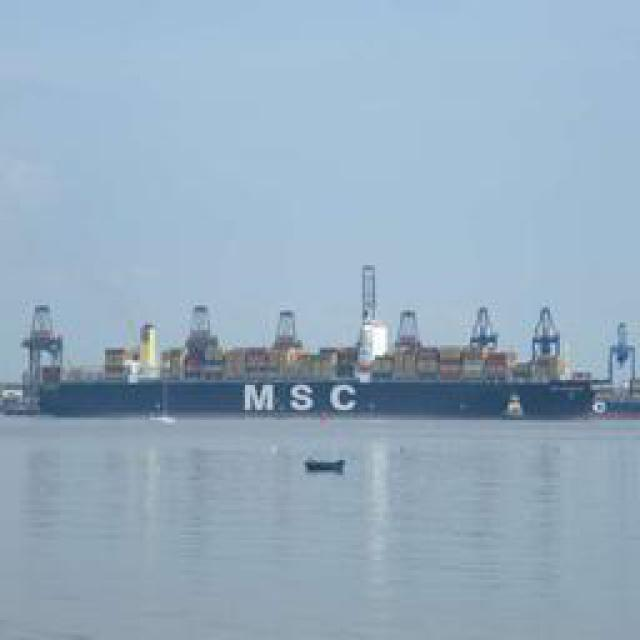Ship: (16, 302, 626, 420)
